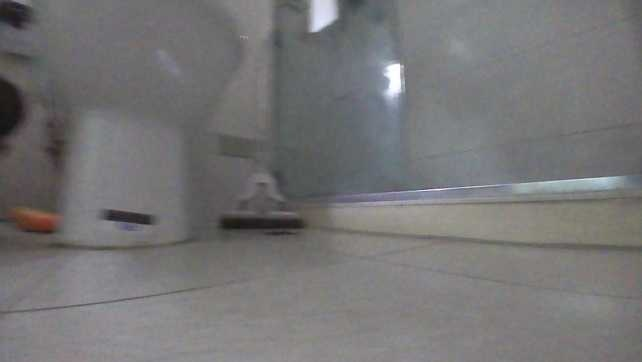toilet_part: (34, 0, 240, 249)
